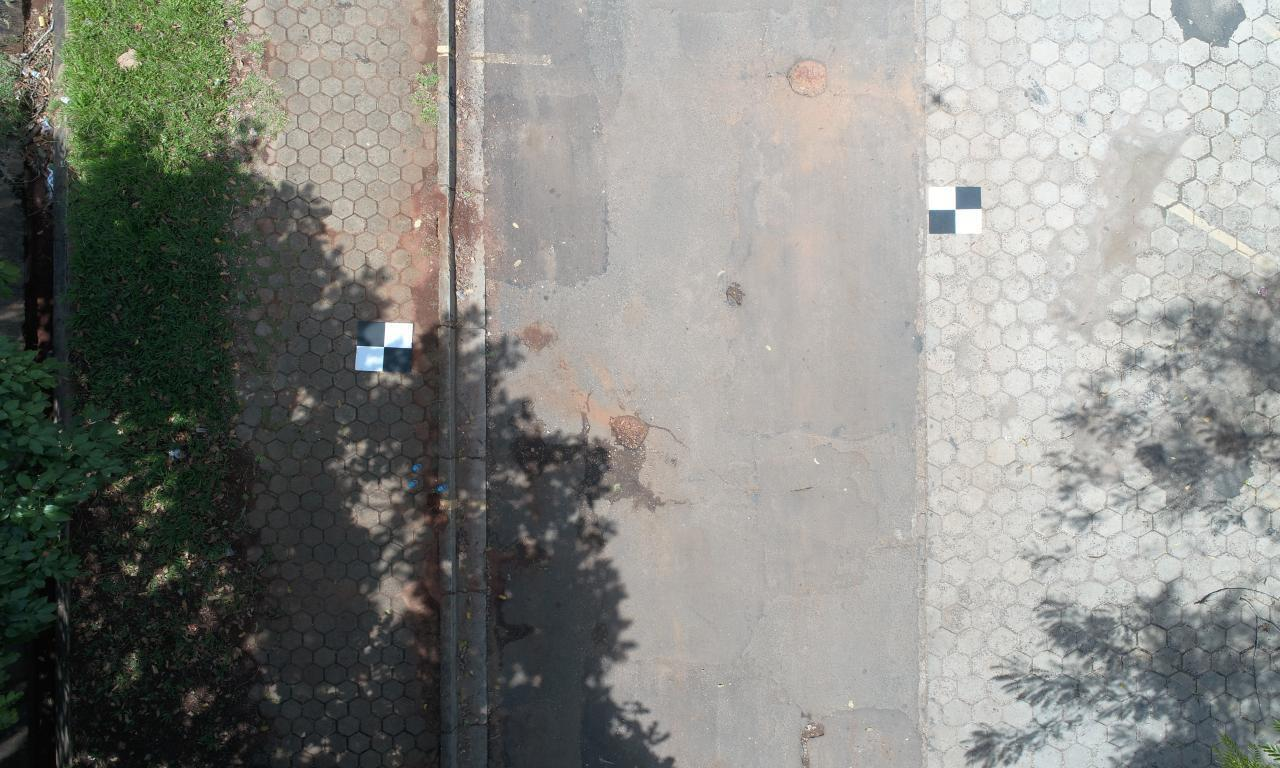BACHE: (789, 59, 826, 96), (613, 416, 649, 449)
PARCHE: (485, 0, 620, 284)
PIEL DE COCODRILO: (917, 0, 1279, 767), (238, 0, 435, 764)
